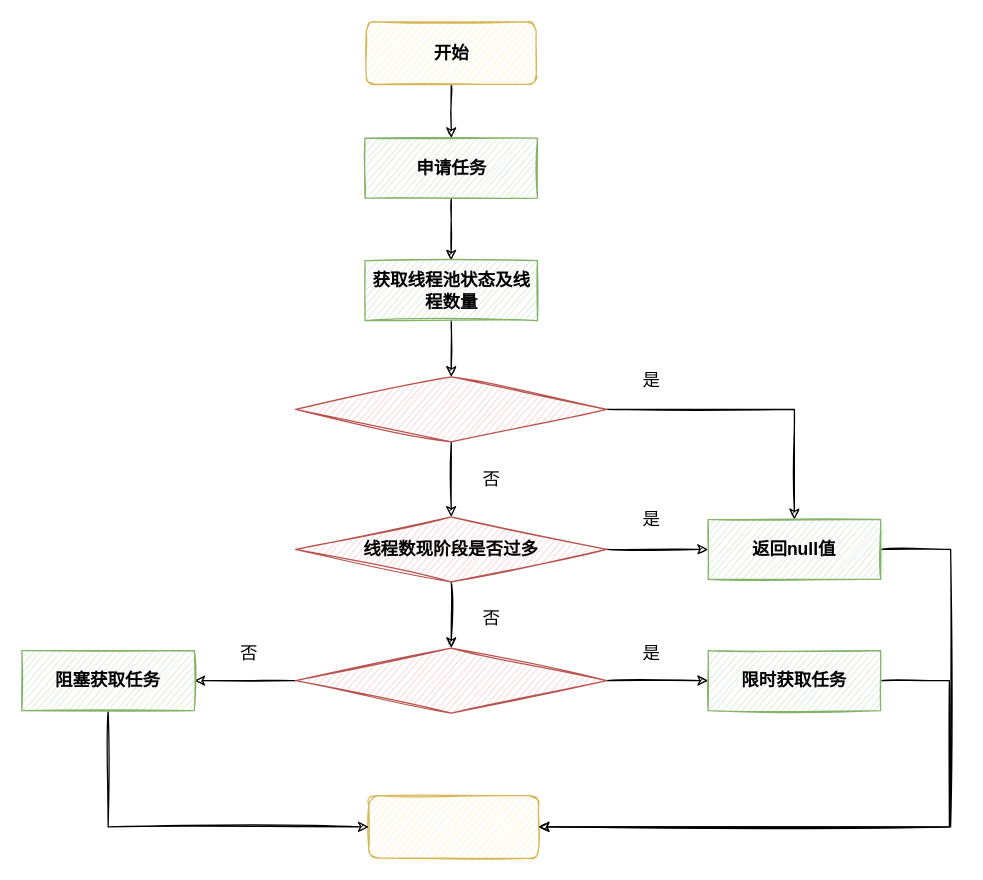
This 983x880 diagram has some shape labels left out. The centre of each missing label's shape, as x and y in pixels:
"线程池是否已停止运行" goes at point (450, 409).
"结束" goes at point (453, 826).
"该线程是否为可回收线程" goes at point (450, 680).
